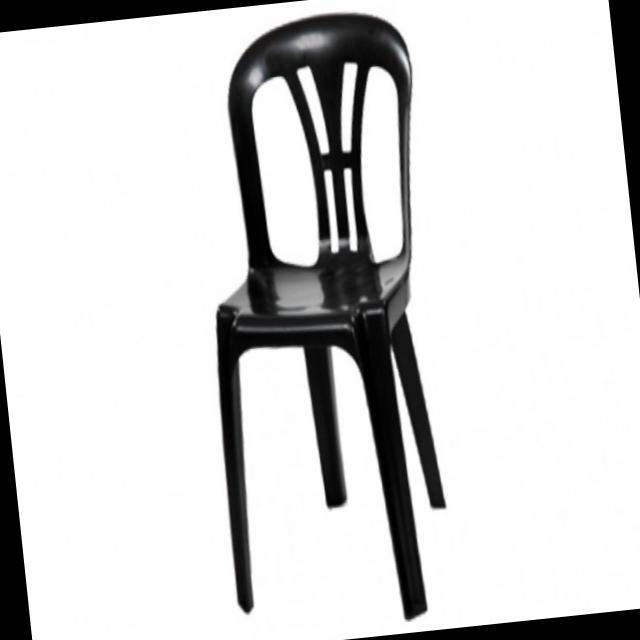Chair: (174, 0, 470, 639)
